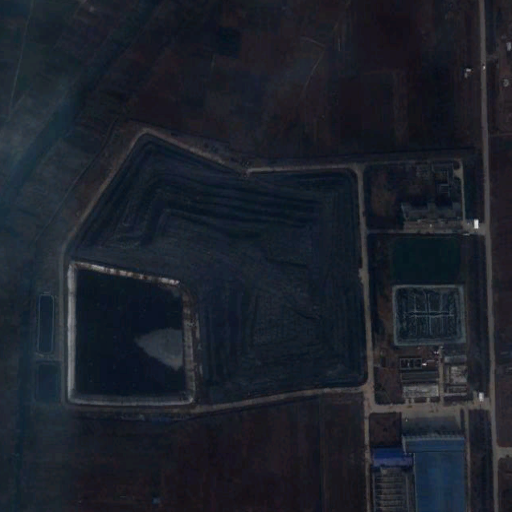lf: (64, 130, 370, 405)
